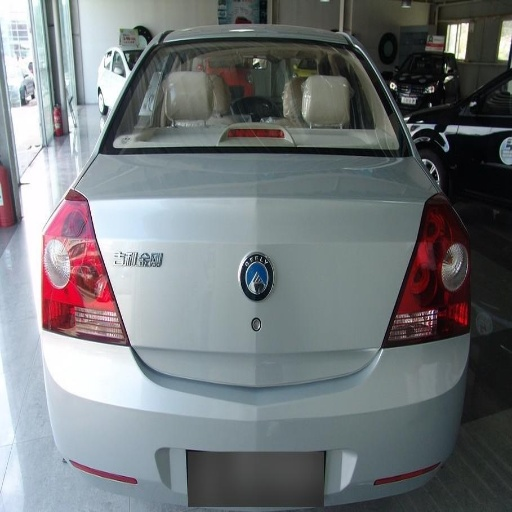back_bumper: (40, 334, 466, 503)
back_right_light: (386, 206, 468, 345)
front_bumper: (197, 486, 337, 510)
tailgate: (85, 148, 193, 374), (334, 309, 388, 374)
